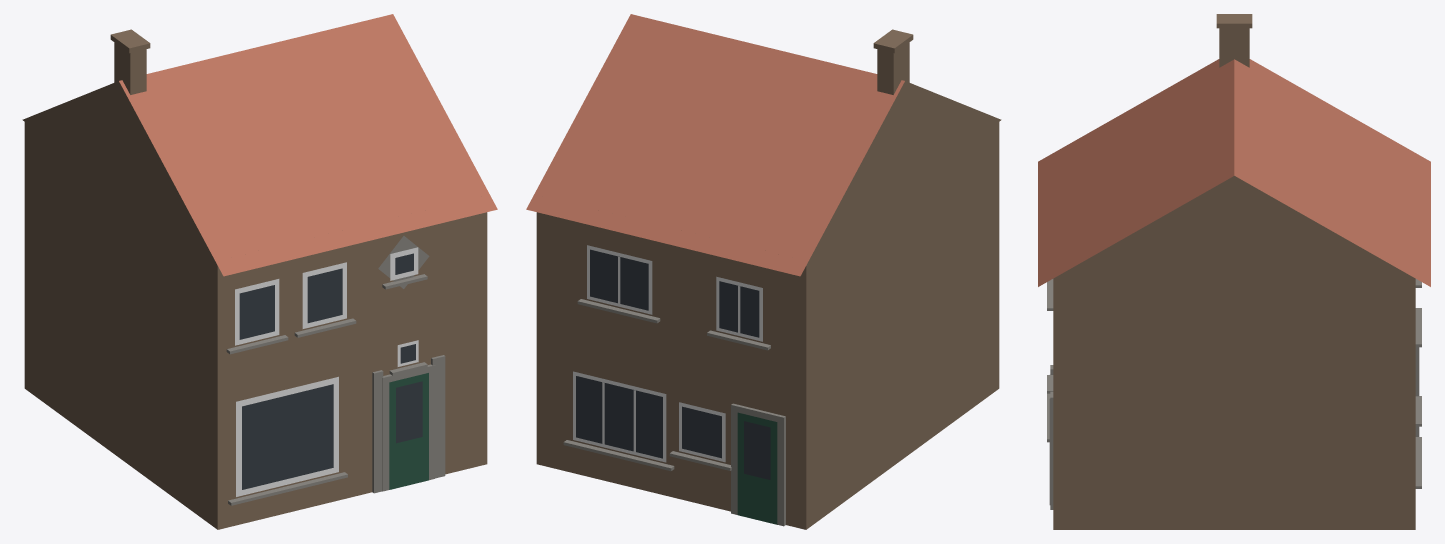
The model's file is ws-wz-diamond__brick__2__gable__long__solid__mirror.glb.
3 renders of one model, left to right at view 1: azimuth 30°, elevation 25°; view 2: azimuth 150°, elevation 25°; view 3: azimuth 270°, elevation 25°, orthographic. The views are drawn at different scales.
Parts seen in each view (by area): view 1: ws-wz-diamond__brick__2__gable__long__solid__mirror; view 2: ws-wz-diamond__brick__2__gable__long__solid__mirror; view 3: ws-wz-diamond__brick__2__gable__long__solid__mirror.
Boxes of the visible parts, bbox=[...] form: ws-wz-diamond__brick__2__gable__long__solid__mirror: bbox=[22, 14, 497, 529]; ws-wz-diamond__brick__2__gable__long__solid__mirror: bbox=[526, 14, 1001, 529]; ws-wz-diamond__brick__2__gable__long__solid__mirror: bbox=[1038, 14, 1430, 529].
Bounding box in the file's own units: 5.87 × 8.54 × 7.76.
